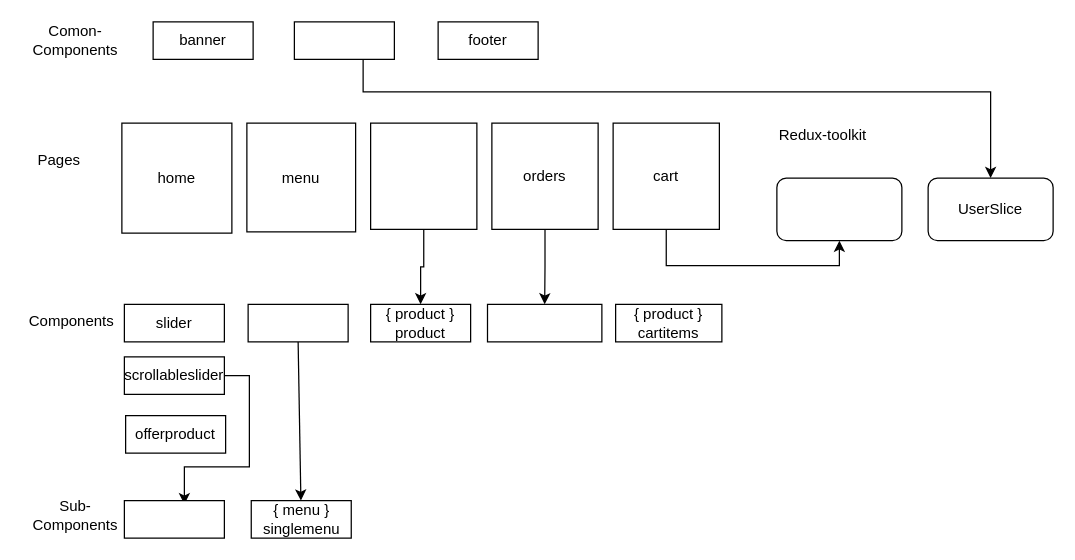
Image size: 1075x560. Some labels were removed from this diagram. The shapes that lost their labels are listed below. From the top down, each one's centre as x and y in pixels, then its label:
At pixel 343 40: "navbar".
At pixel 423 175: "products".
At pixel 839 209: "CartSlice".
At pixel 297 322: "menus".
At pixel 544 322: "{ item, rowtype } order".
At pixel 173 518: "{ item } singleslide".
